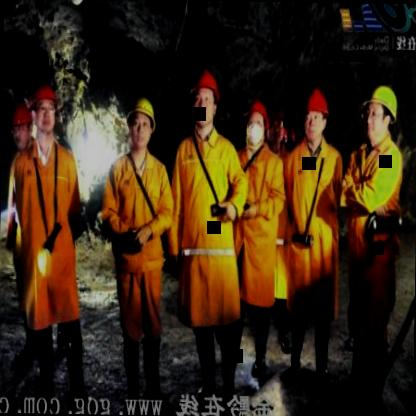helmet: (362, 76, 400, 148), (189, 62, 221, 136), (126, 88, 158, 156), (31, 76, 60, 136), (302, 81, 328, 146), (244, 94, 270, 158), (10, 100, 36, 148), (260, 106, 286, 150)
